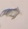microplastic: (1, 7, 20, 20)
